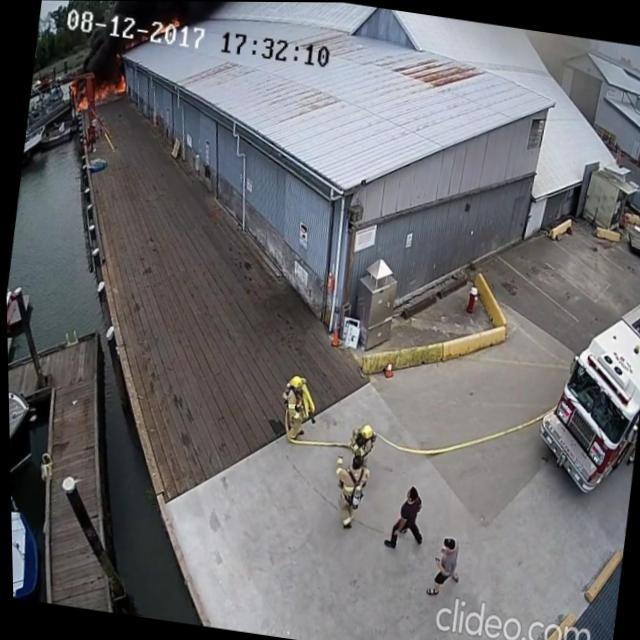fire: (92, 63, 130, 107), (61, 78, 91, 116), (158, 13, 183, 33)
